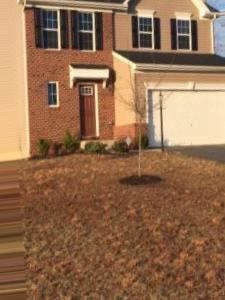patch: (29, 155, 223, 299)
